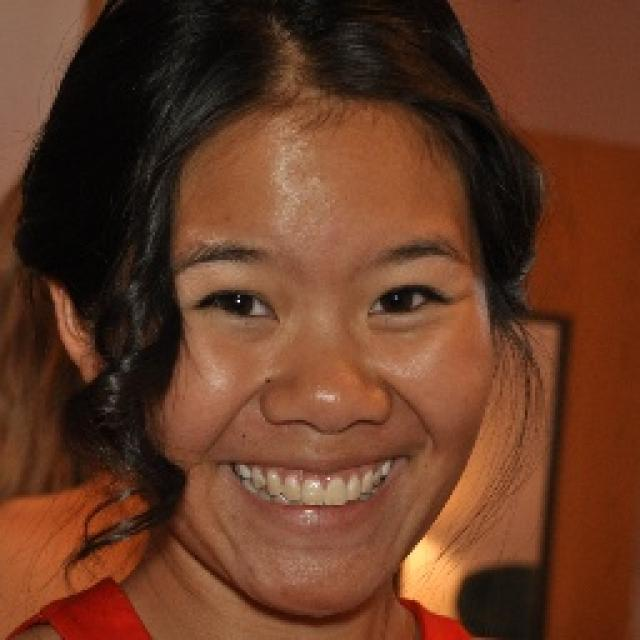earlobe: (79, 344, 115, 386)
eye: (194, 287, 280, 325), (369, 285, 447, 318)
nose: (264, 410, 393, 470)
wholeear: (48, 272, 116, 386)
